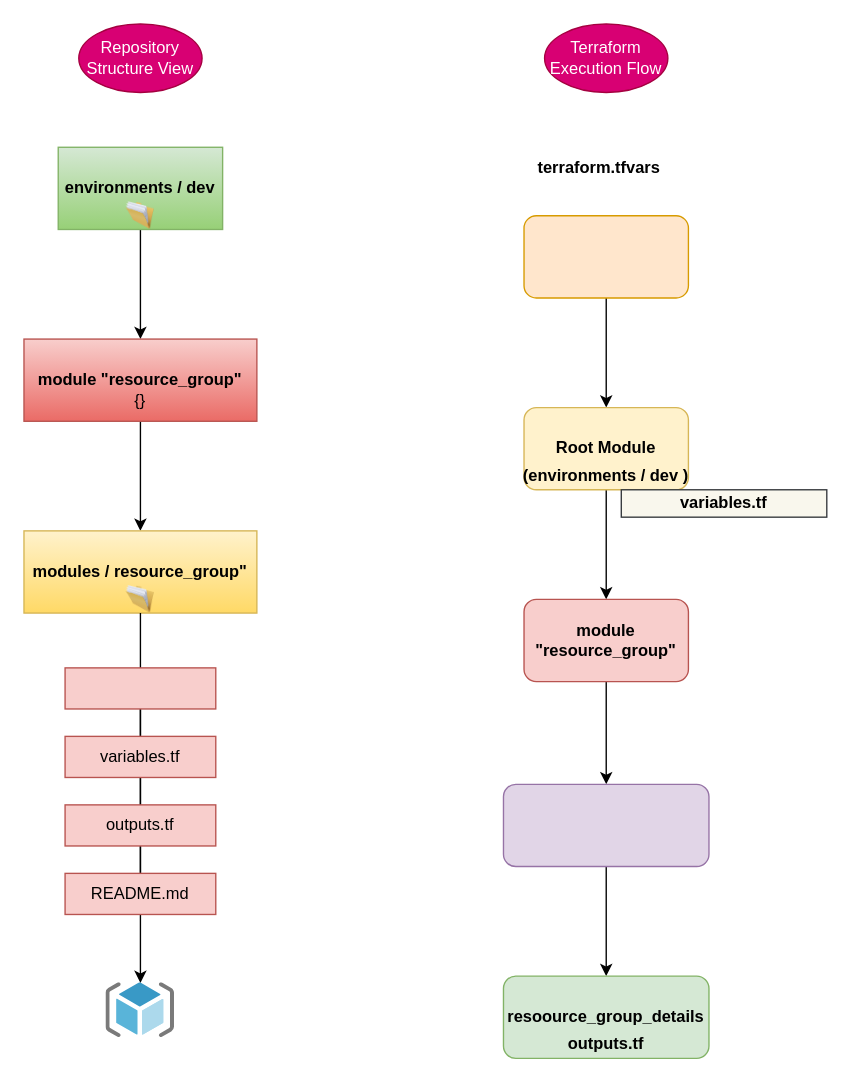
The diagram is 851 pixels wide and 1091 high, and some of its shapes have lost their labels. Here are the shapes that lost their labels. From the top down, the centre of each, then its label:
the point at 605,256: resource_groups
the point at 140,688: main.tf
the point at 605,825: azurerm_resource_group
the point at 139,1009: Azure Resource Group
